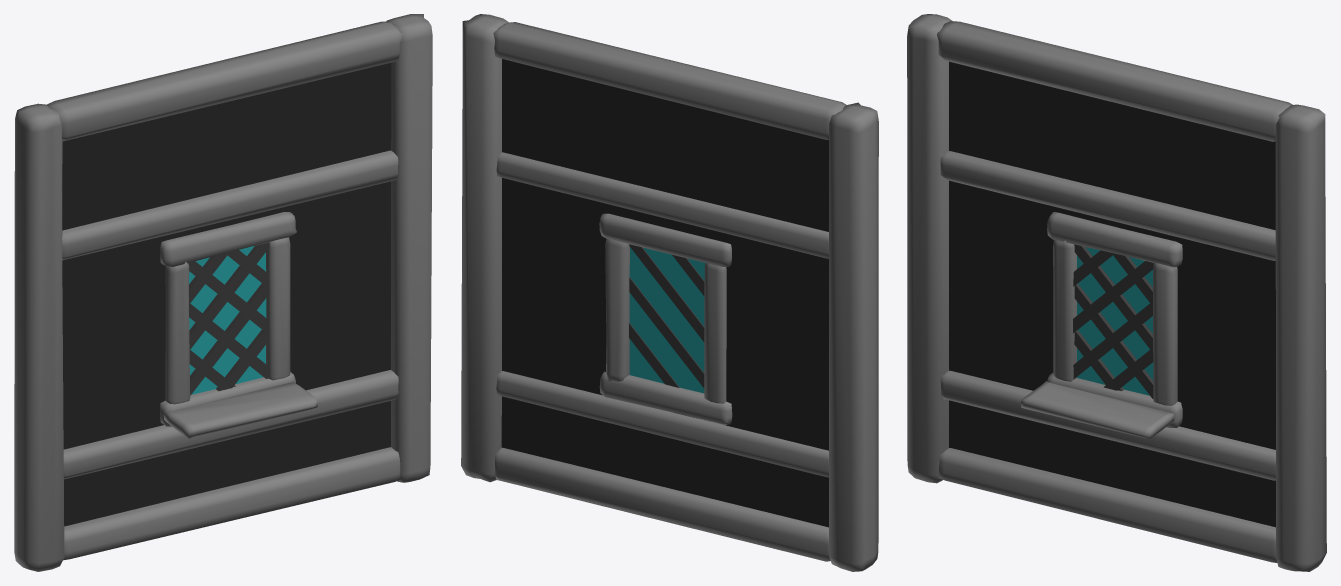
Rendered from SM_wallpiece_window_a.fbx.
3 renders of one model, left to right at view 1: azimuth 30°, elevation 25°; view 2: azimuth 150°, elevation 25°; view 3: azimuth 330°, elevation 25°, orthographic.
Visible parts, largest first — view 1: Object342755; view 2: Object342755; view 3: Object342755.
Boxes of the visible parts, bbox=[...] form: Object342755: bbox=[14, 14, 432, 571]; Object342755: bbox=[461, 14, 878, 571]; Object342755: bbox=[907, 14, 1326, 571].
Size of the model in its own units: 108 by 115 by 19.02.
